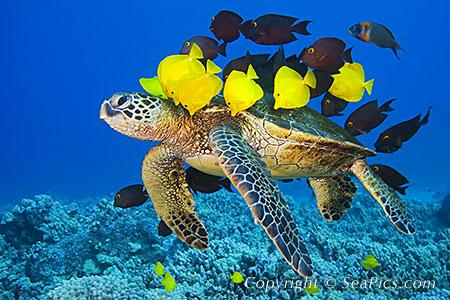turtle: (92, 82, 163, 146)
